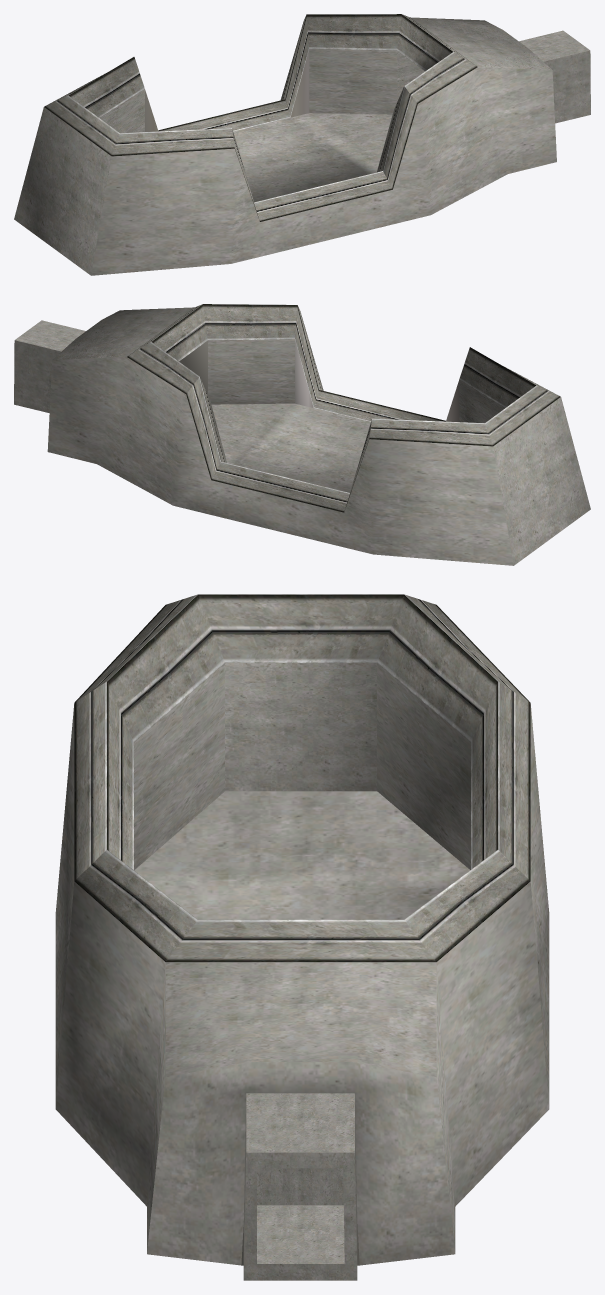
The model's file is ARKENSTONE_ARMA-SOCKET.fbx.
3 renders of one model, top to bottom at view 1: azimuth 30°, elevation 25°; view 2: azimuth 150°, elevation 25°; view 3: azimuth 270°, elevation 25°, orthographic. The views are drawn at different scales.
Parts seen in each view (by area): view 1: ARKENSTONE_ARMA-SOCKET; view 2: ARKENSTONE_ARMA-SOCKET; view 3: ARKENSTONE_ARMA-SOCKET.
Boxes of the visible parts, left/top/right/bottom form: ARKENSTONE_ARMA-SOCKET: left=14, top=14, right=590, bottom=275; ARKENSTONE_ARMA-SOCKET: left=14, top=304, right=590, bottom=565; ARKENSTONE_ARMA-SOCKET: left=55, top=594, right=549, bottom=1280.
Size of the model in its own units: 40045 by 9468 by 16311.
4 materials, 4 textured.
